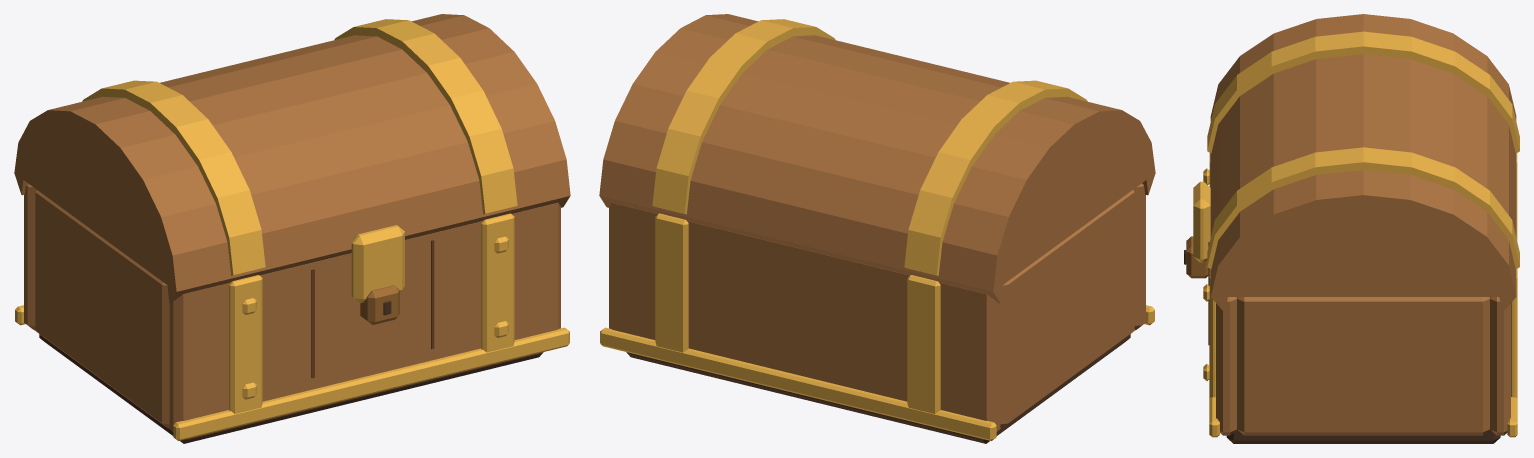
The model's file is symbol_woodchest.glb.
3 views of the same model, side by side, from view 1: azimuth 30°, elevation 25°; view 2: azimuth 150°, elevation 25°; view 3: azimuth 270°, elevation 25° (orthographic). The views are drawn at different scales.
Parts seen in each view (by area): view 1: SYMBOL_woodchest_MOBP_wood_chest_arched_lid, SYMBOL_woodchest_MOBP_wood_chest_front, SYMBOL_woodchest_MOBP_wood_chest_left, SYMBOL_woodchest_MOBP_wood_chest_lid_end_-1, SYMBOL_woodchest_MOBP_wood_chest_lid_band_0.039, SYMBOL_woodchest_MOBP_wood_chest_lid_band_-0.039, SYMBOL_woodchest_MOBP_wood_chest_lower_rail_-0.0424, SYMBOL_woodchest_MOBP_wood_chest_body_strap_-0.039_-0.042600, SYMBOL_woodchest_MOBP_wood_chest_body_strap_0.039_-0.0426000, SYMBOL_woodchest_MOBP_wood_chest_lid_latch, SYMBOL_woodchest_MOBP_wood_chest_bottom, SYMBOL_woodchest_MOBP_wood_chest_back (+1 smaller); view 2: SYMBOL_woodchest_MOBP_wood_chest_arched_lid, SYMBOL_woodchest_MOBP_wood_chest_back, SYMBOL_woodchest_MOBP_wood_chest_left, SYMBOL_woodchest_MOBP_wood_chest_lid_end_-1, SYMBOL_woodchest_MOBP_wood_chest_lid_band_0.039, SYMBOL_woodchest_MOBP_wood_chest_lid_band_-0.039, SYMBOL_woodchest_MOBP_wood_chest_lower_rail_0.0424, SYMBOL_woodchest_MOBP_wood_chest_body_strap_-0.039_0.0426000, SYMBOL_woodchest_MOBP_wood_chest_body_strap_0.039_0.04260000, SYMBOL_woodchest_MOBP_wood_chest_bottom, SYMBOL_woodchest_MOBP_wood_chest_front; view 3: SYMBOL_woodchest_MOBP_wood_chest_arched_lid, SYMBOL_woodchest_MOBP_wood_chest_right, SYMBOL_woodchest_MOBP_wood_chest_lid_end_1, SYMBOL_woodchest_MOBP_wood_chest_lid_band_-0.039, SYMBOL_woodchest_MOBP_wood_chest_lid_band_0.039, SYMBOL_woodchest_MOBP_wood_chest_back, SYMBOL_woodchest_MOBP_wood_chest_front, SYMBOL_woodchest_MOBP_wood_chest_bottom, SYMBOL_woodchest_MOBP_wood_chest_lid_latch, SYMBOL_woodchest_MOBP_wood_chest_body_strap_0.039_-0.0426000, SYMBOL_woodchest_MOBP_wood_chest_body_strap_0.039_0.04260000, SYMBOL_woodchest_MOBP_wood_chest_latch_keeper (+2 smaller).
Boxes of the visible parts, bbox=[...] form: SYMBOL_woodchest_MOBP_wood_chest_arched_lid: bbox=[14, 14, 570, 303]; SYMBOL_woodchest_MOBP_wood_chest_front: bbox=[169, 203, 560, 431]; SYMBOL_woodchest_MOBP_wood_chest_left: bbox=[35, 190, 169, 428]; SYMBOL_woodchest_MOBP_wood_chest_lid_end_-1: bbox=[15, 110, 175, 290]; SYMBOL_woodchest_MOBP_wood_chest_lid_band_0.039: bbox=[334, 19, 517, 214]; SYMBOL_woodchest_MOBP_wood_chest_lid_band_-0.039: bbox=[82, 80, 265, 275]; SYMBOL_woodchest_MOBP_wood_chest_lower_rail_-0.0424: bbox=[173, 327, 569, 440]; SYMBOL_woodchest_MOBP_wood_chest_body_strap_-0.039_-0.042600: bbox=[229, 275, 262, 413]; SYMBOL_woodchest_MOBP_wood_chest_body_strap_0.039_-0.0426000: bbox=[481, 213, 514, 352]; SYMBOL_woodchest_MOBP_wood_chest_lid_latch: bbox=[351, 225, 404, 303]; SYMBOL_woodchest_MOBP_wood_chest_bottom: bbox=[39, 334, 543, 443]; SYMBOL_woodchest_MOBP_wood_chest_back: bbox=[24, 183, 36, 330]; SYMBOL_woodchest_MOBP_wood_chest_arched_lid: bbox=[599, 14, 1155, 303]; SYMBOL_woodchest_MOBP_wood_chest_back: bbox=[609, 203, 1000, 431]; SYMBOL_woodchest_MOBP_wood_chest_left: bbox=[1000, 190, 1134, 428]; SYMBOL_woodchest_MOBP_wood_chest_lid_end_-1: bbox=[993, 110, 1153, 291]; SYMBOL_woodchest_MOBP_wood_chest_lid_band_0.039: bbox=[652, 19, 835, 214]; SYMBOL_woodchest_MOBP_wood_chest_lid_band_-0.039: bbox=[904, 80, 1087, 275]; SYMBOL_woodchest_MOBP_wood_chest_lower_rail_0.0424: bbox=[600, 327, 996, 440]; SYMBOL_woodchest_MOBP_wood_chest_body_strap_-0.039_0.0426000: bbox=[907, 275, 940, 413]; SYMBOL_woodchest_MOBP_wood_chest_body_strap_0.039_0.04260000: bbox=[655, 213, 688, 352]; SYMBOL_woodchest_MOBP_wood_chest_bottom: bbox=[626, 334, 1130, 443]; SYMBOL_woodchest_MOBP_wood_chest_front: bbox=[1133, 183, 1145, 330]; SYMBOL_woodchest_MOBP_wood_chest_arched_lid: bbox=[1210, 14, 1516, 312]; SYMBOL_woodchest_MOBP_wood_chest_right: bbox=[1237, 297, 1489, 435]; SYMBOL_woodchest_MOBP_wood_chest_lid_end_1: bbox=[1211, 195, 1516, 296]; SYMBOL_woodchest_MOBP_wood_chest_lid_band_-0.039: bbox=[1207, 31, 1519, 153]; SYMBOL_woodchest_MOBP_wood_chest_lid_band_0.039: bbox=[1207, 147, 1519, 268]; SYMBOL_woodchest_MOBP_wood_chest_back: bbox=[1490, 297, 1510, 435]; SYMBOL_woodchest_MOBP_wood_chest_front: bbox=[1216, 297, 1236, 435]; SYMBOL_woodchest_MOBP_wood_chest_bottom: bbox=[1226, 429, 1500, 443]; SYMBOL_woodchest_MOBP_wood_chest_lid_latch: bbox=[1193, 181, 1210, 262]; SYMBOL_woodchest_MOBP_wood_chest_body_strap_0.039_-0.0426000: bbox=[1209, 269, 1215, 397]; SYMBOL_woodchest_MOBP_wood_chest_body_strap_0.039_0.04260000: bbox=[1511, 269, 1517, 397]; SYMBOL_woodchest_MOBP_wood_chest_latch_keeper: bbox=[1186, 236, 1208, 278].
Bounding box in the file's own units: 0.122 × 0.0834 × 0.0956.
